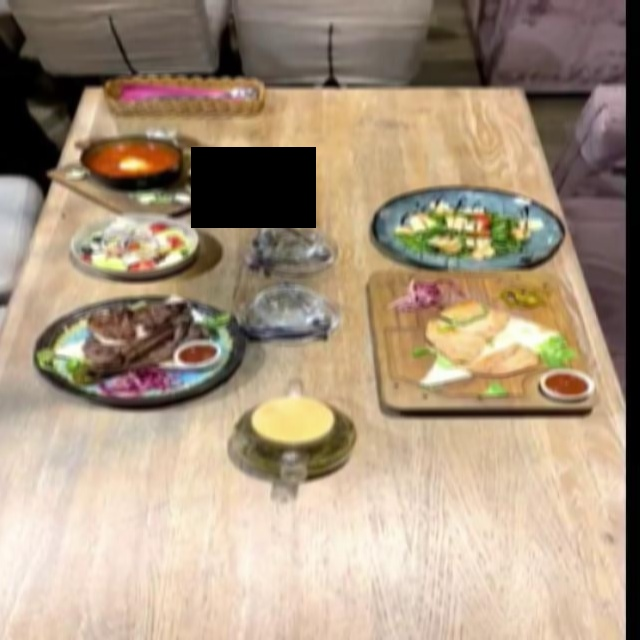meat: (355, 269, 607, 419), (33, 294, 249, 404)
salad: (375, 185, 568, 267), (70, 211, 201, 276)
soup: (48, 129, 275, 217)
tea: (231, 392, 360, 480)
